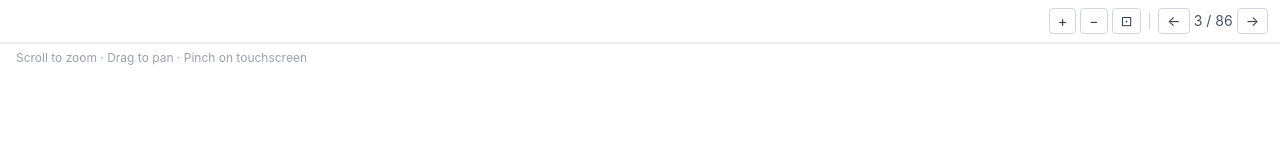
Test: ManuscriptViewer › steps pages within the manuscript's range
Click the button named "Next page". click: click(1252, 21)
box: [1237,8,1268,34]
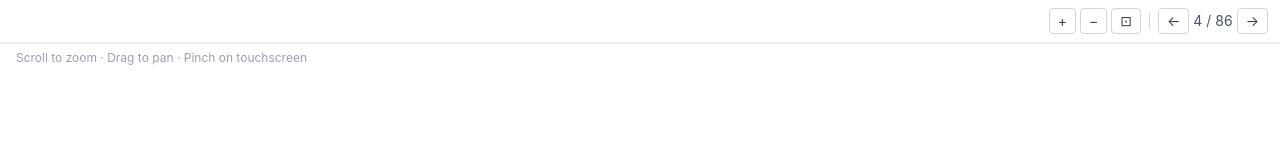
expect the text "4 / 86" is shown: met, box [1193,11,1233,31]
Click the button named "Previous page". click: click(1174, 21)
box: [1158,8,1189,34]
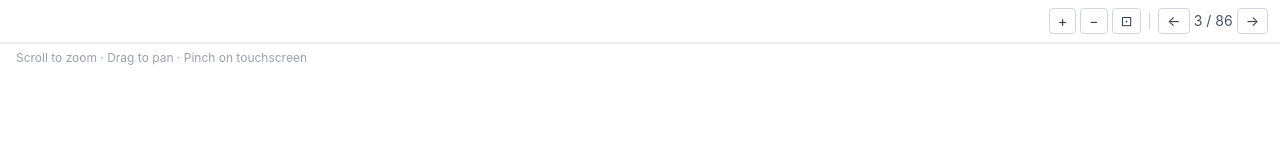
Click the button named "Previous page". click: click(1174, 21)
box: [1158,8,1190,34]
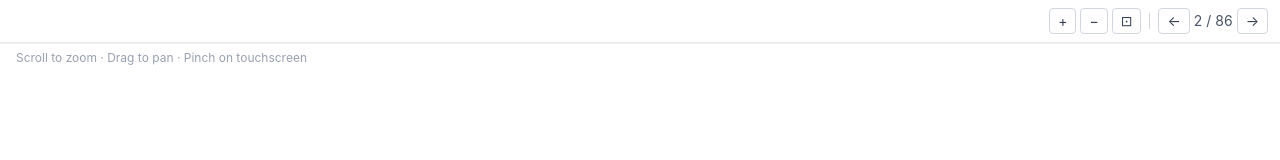
expect the text "2 / 86" is shown: met, box [1194,11,1233,31]
